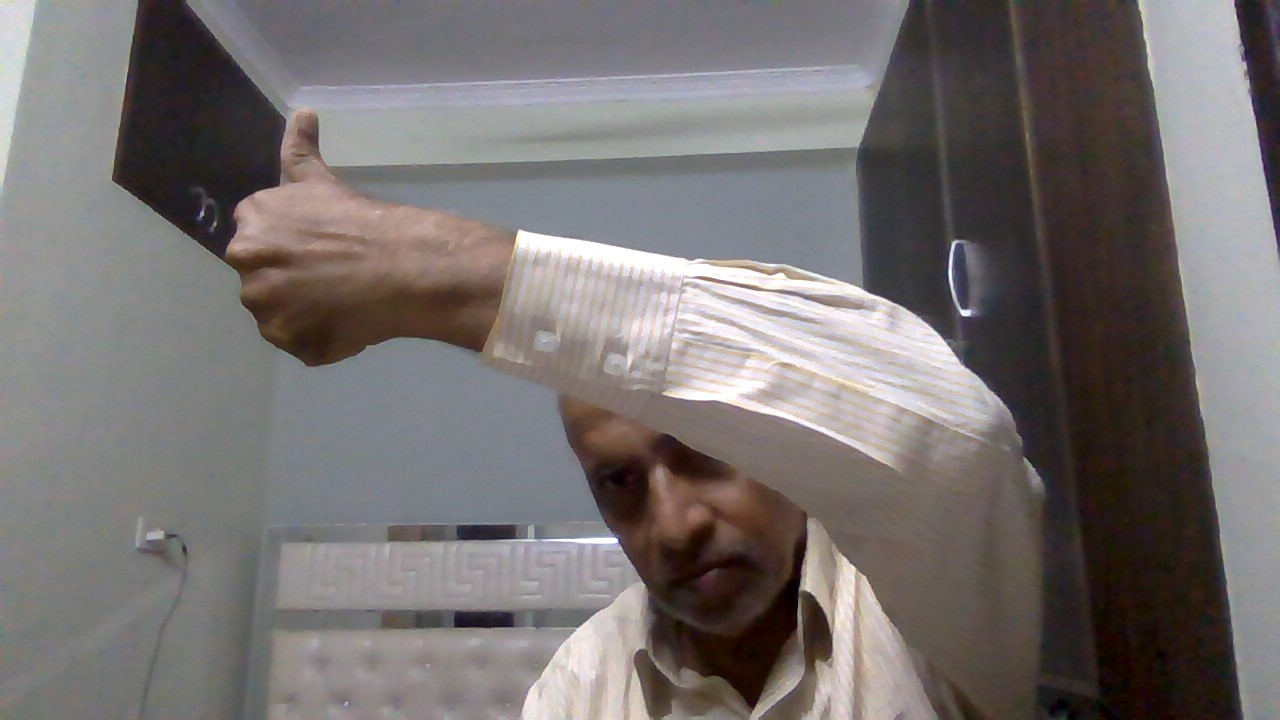Save: (214, 98, 408, 382)
